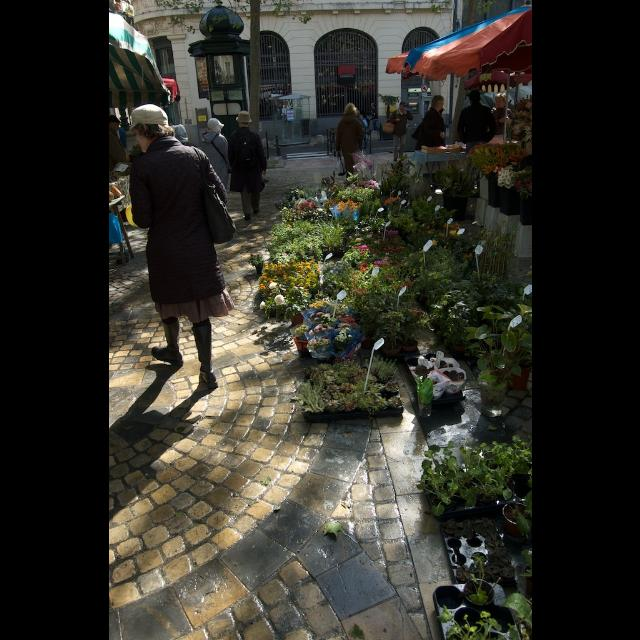Flower: (252, 133, 530, 357), (272, 292, 286, 306)
